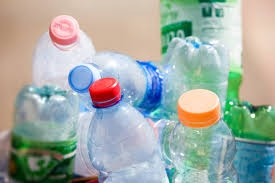plastic: (82, 75, 169, 183), (68, 51, 174, 124), (168, 84, 241, 181), (10, 82, 78, 181), (163, 32, 234, 125), (28, 12, 99, 91)
